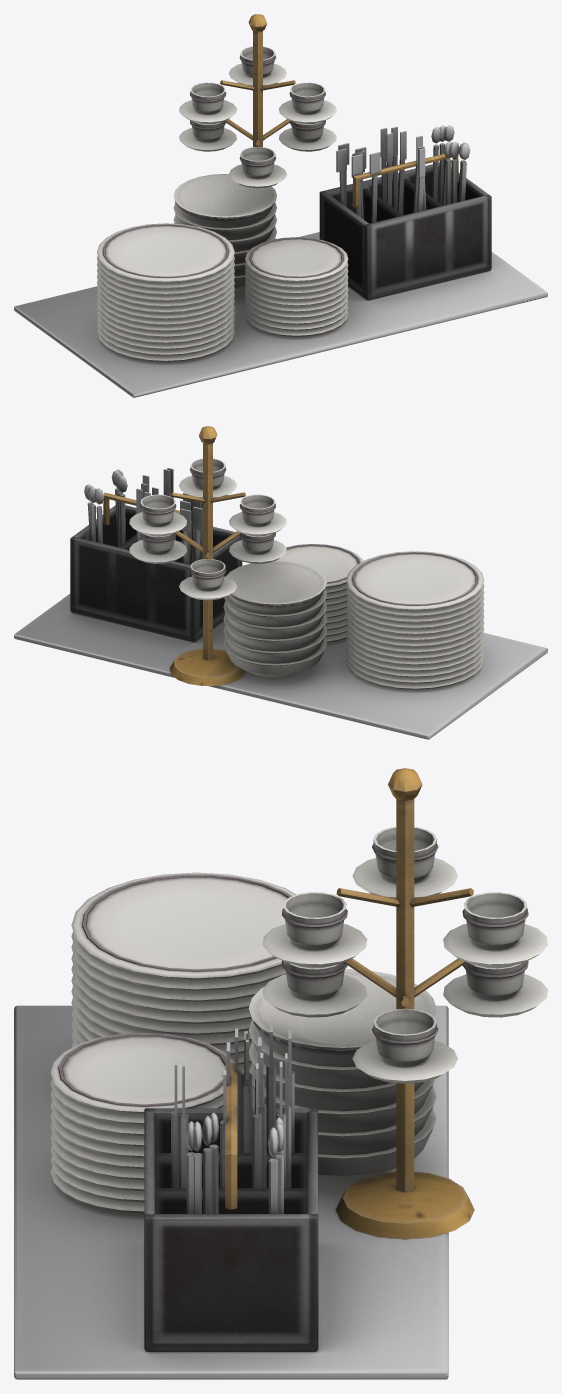
File: DishStack.fbx
3 renders of one model, top to bottom at view 1: azimuth 30°, elevation 25°; view 2: azimuth 150°, elevation 25°; view 3: azimuth 270°, elevation 25°, orthographic. The views are drawn at different scales.
Parts seen in each view (by area): view 1: DishStack; view 2: DishStack; view 3: DishStack.
Boxes of the visible parts, x1,y1,x2,y2 form: DishStack: [14, 14, 547, 397]; DishStack: [14, 426, 547, 739]; DishStack: [14, 768, 547, 1379].
Size of the model in its own units: 250 by 143 by 154.
